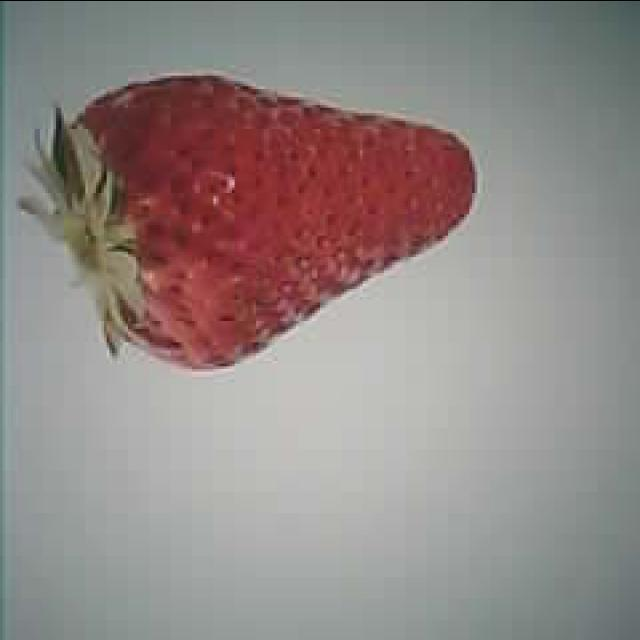ripe: (74, 71, 474, 372)
